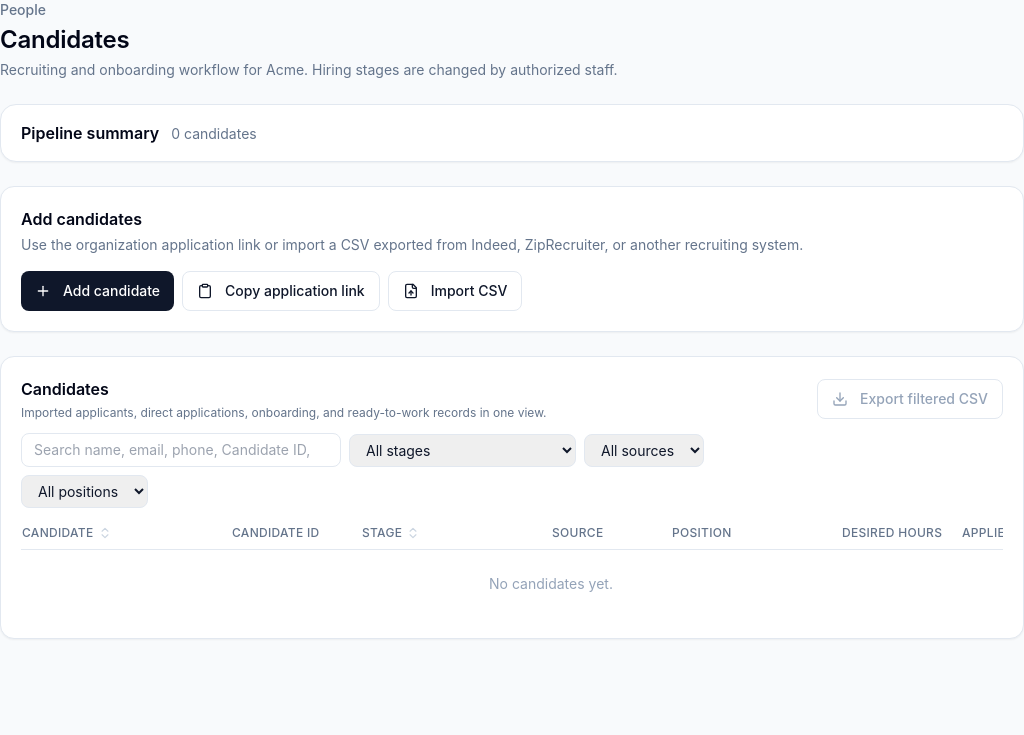
Manual candidate creation › requires first name, last name, Position, and at least one contact method before Save is enabled
Expected: the text "No candidates yet." is shown, [21, 550, 1003, 618]
Click the button "Add candidate" at (98, 291), box [21, 271, 174, 311]
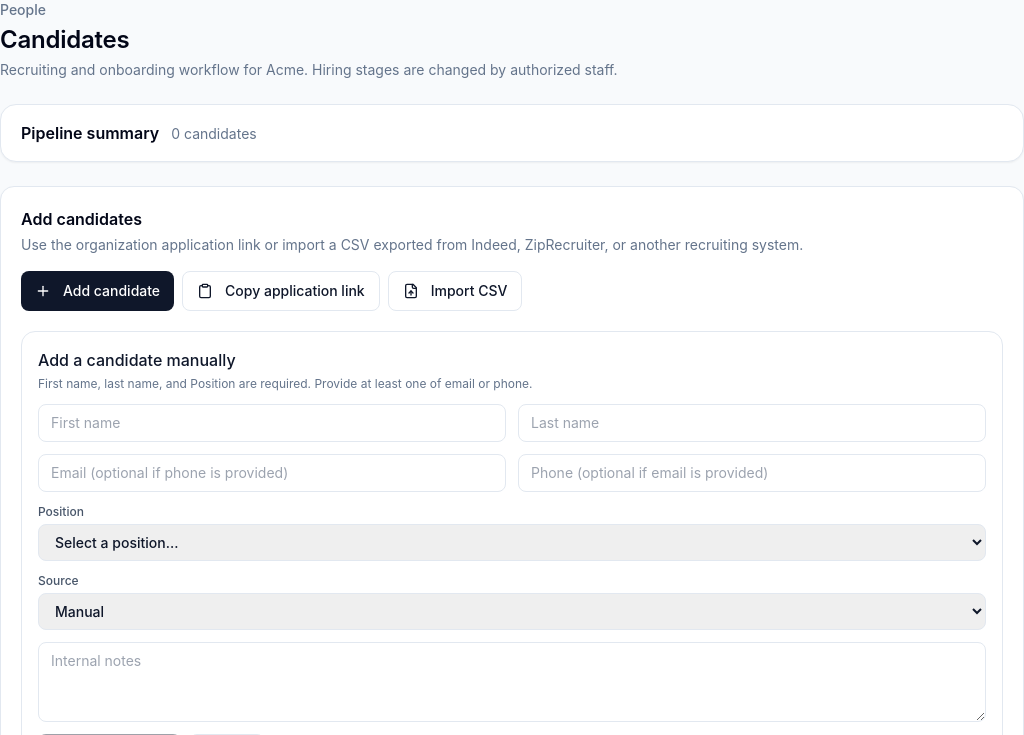
Now the heading "Add a candidate manually" is shown, box [38, 350, 236, 370]
Type "Pat" into the field labelled "First name" at (272, 423), box [38, 404, 506, 442]
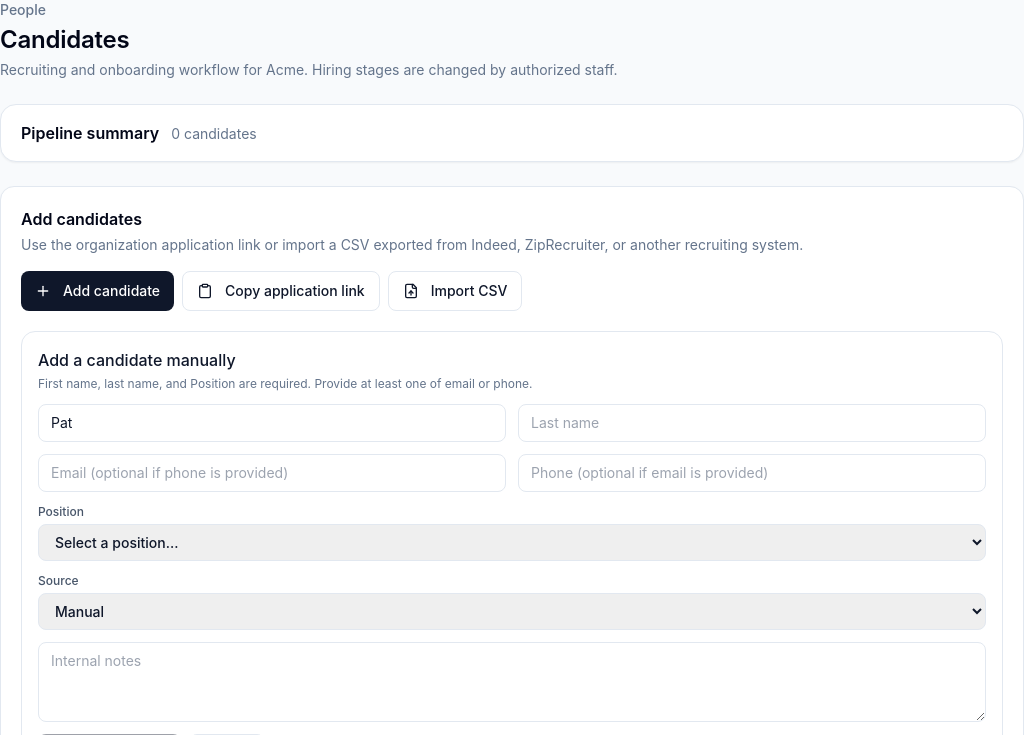
Type "WalkIn" into the field labelled "Last name" at (752, 423), box [518, 404, 986, 442]
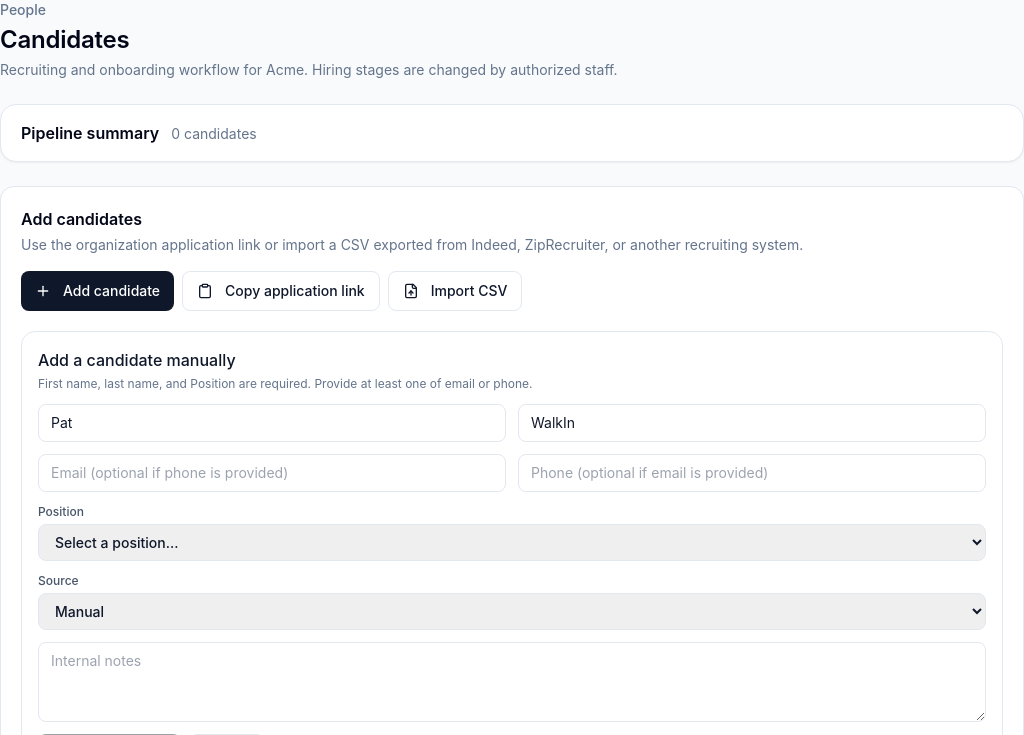
Select "Caregiver" in the dropdown labelled "Position" at (512, 542), box [38, 524, 986, 561]
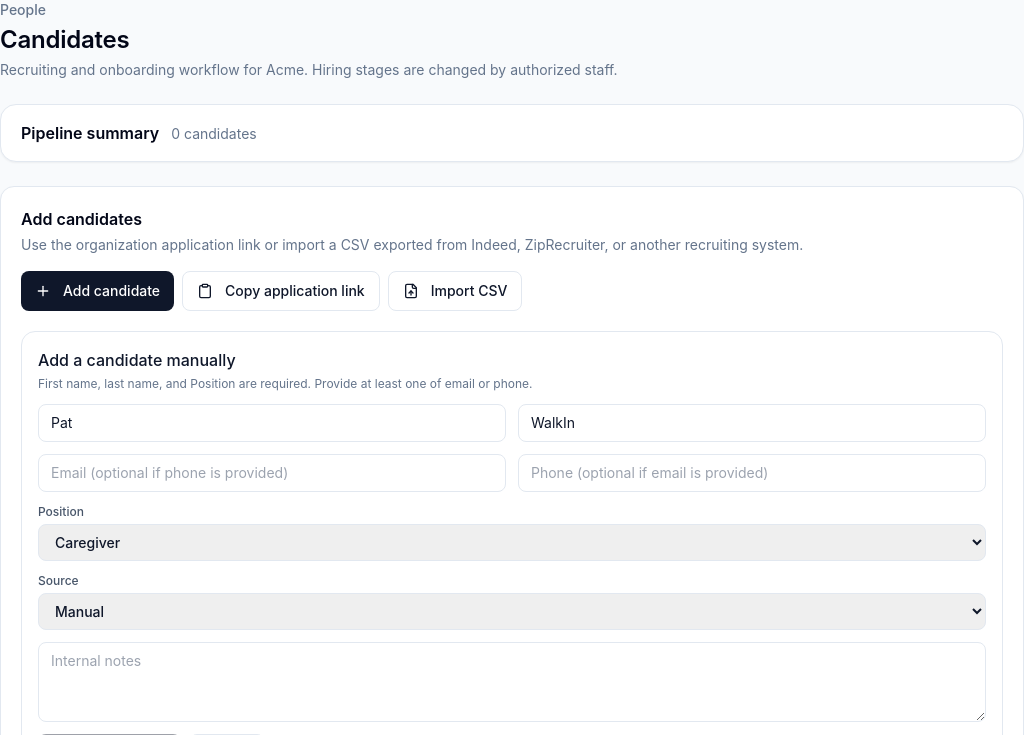
Type "555-111-2222" into the field labelled "Phone" at (752, 473), box [518, 454, 986, 492]
(page scrolled)
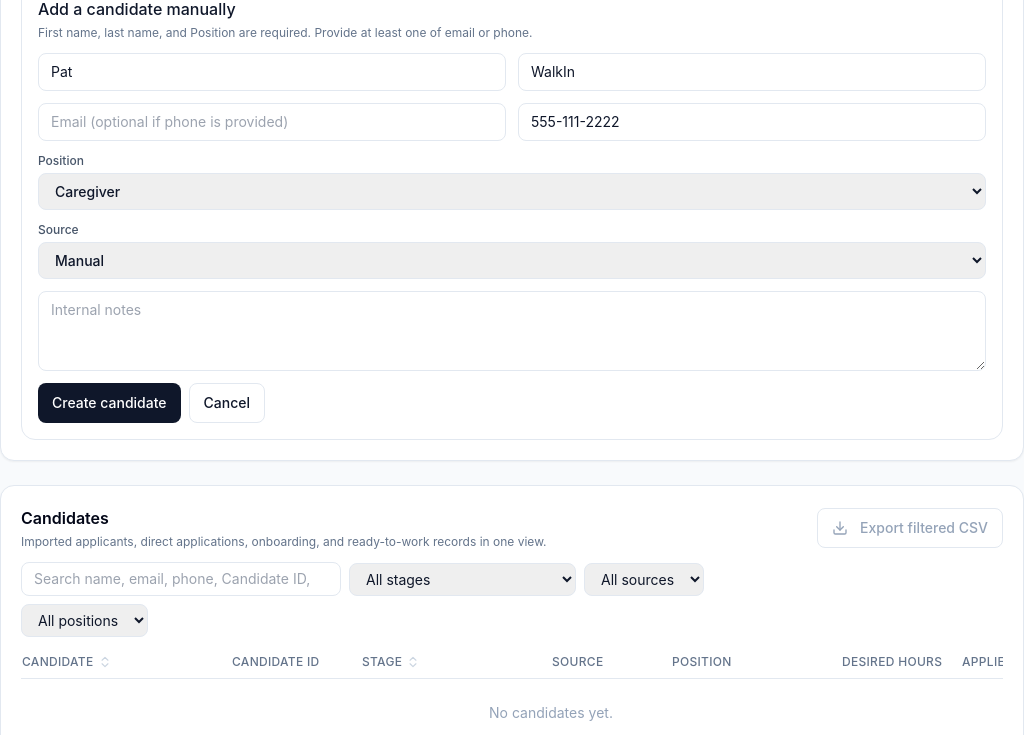
Now the button "Create candidate" is enabled, box [38, 383, 180, 423]
